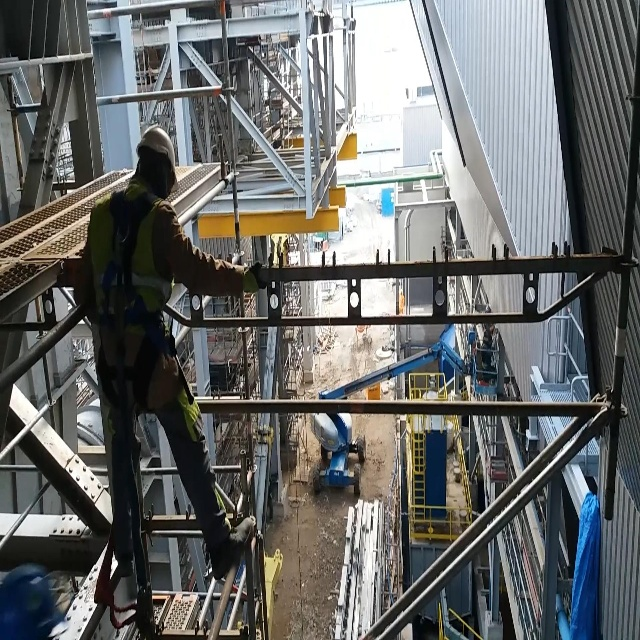Arnes_seguridad: (89, 183, 177, 415)
